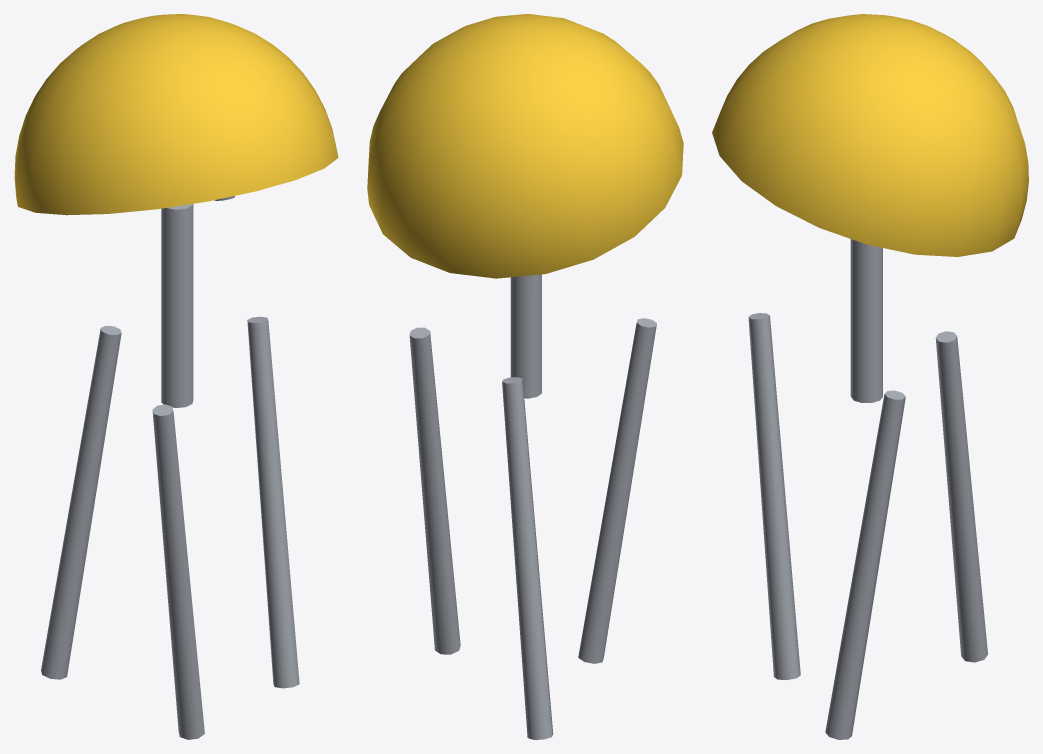
File: radar.glb
3 views of the same model, side by side, from view 1: azimuth 30°, elevation 25°; view 2: azimuth 150°, elevation 25°; view 3: azimuth 270°, elevation 25° (orthographic). The views are drawn at different scales.
Size of the model in its own units: 0.6 by 1.35 by 0.5864.
